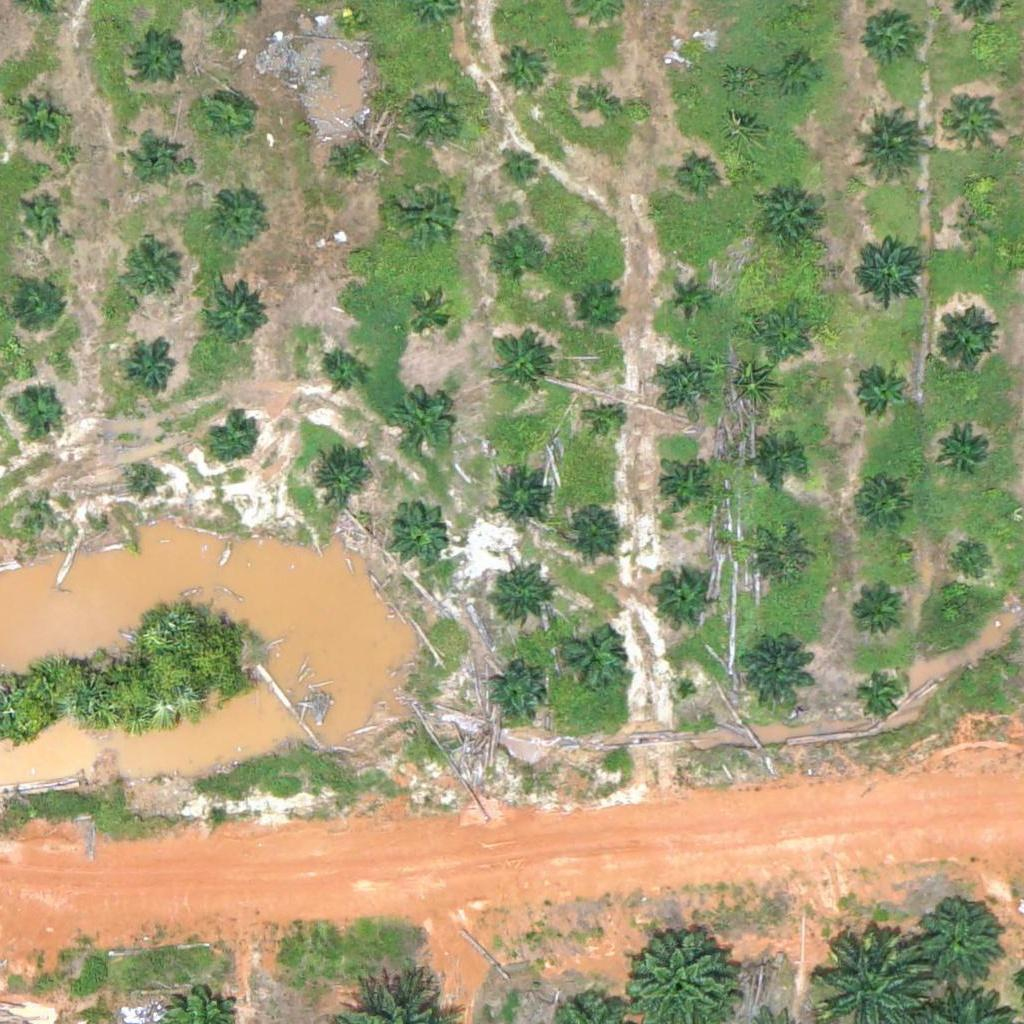Kelapa_Sawit: (917, 905, 1004, 993), (391, 170, 466, 246), (738, 632, 813, 708), (552, 619, 627, 695), (850, 113, 925, 188), (852, 227, 927, 302), (651, 349, 714, 412), (388, 390, 451, 453), (932, 311, 995, 374), (937, 418, 1000, 481), (485, 567, 548, 630), (384, 499, 447, 562), (652, 568, 715, 631), (484, 664, 547, 727), (487, 331, 549, 394), (204, 279, 266, 342), (755, 187, 817, 250), (857, 4, 919, 67), (122, 242, 184, 305), (402, 87, 464, 150), (201, 189, 263, 252), (8, 84, 70, 147), (942, 90, 1004, 153), (751, 527, 813, 590), (307, 444, 369, 507), (492, 469, 554, 531), (559, 497, 621, 559), (757, 314, 807, 365), (852, 365, 902, 416), (11, 380, 61, 431), (15, 281, 65, 332), (856, 478, 906, 529), (949, 536, 999, 587), (752, 436, 802, 486), (126, 346, 176, 396), (207, 413, 257, 463), (133, 130, 183, 180), (132, 34, 182, 84), (486, 237, 536, 287), (199, 90, 249, 140), (851, 589, 901, 639), (656, 459, 706, 509), (857, 670, 907, 720), (572, 284, 622, 334), (403, 293, 453, 343), (318, 350, 368, 400), (326, 133, 376, 183), (498, 46, 548, 96), (588, 405, 626, 443), (501, 148, 539, 186), (676, 42, 714, 80), (582, 84, 620, 122), (781, 58, 818, 96), (956, 207, 993, 245), (667, 280, 704, 318), (681, 156, 719, 193), (21, 197, 58, 235), (132, 466, 157, 491), (335, 8, 360, 33), (342, 243, 367, 268), (37, 500, 62, 525)
